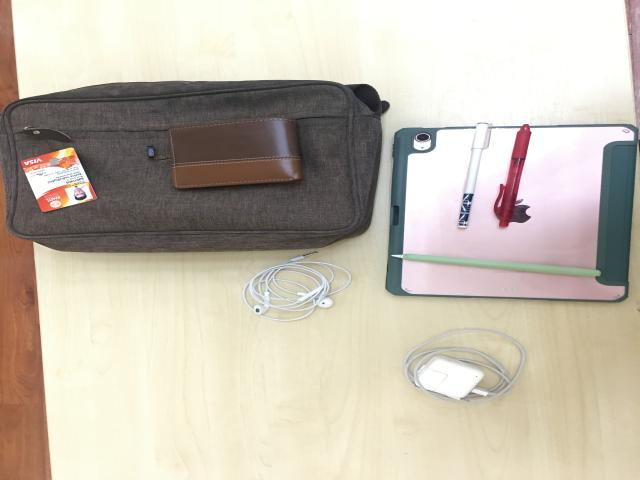Pen: (493, 125, 532, 230), (458, 122, 493, 231)
Wallet: (170, 120, 301, 189)
wire: (403, 328, 528, 405), (243, 255, 353, 324)
